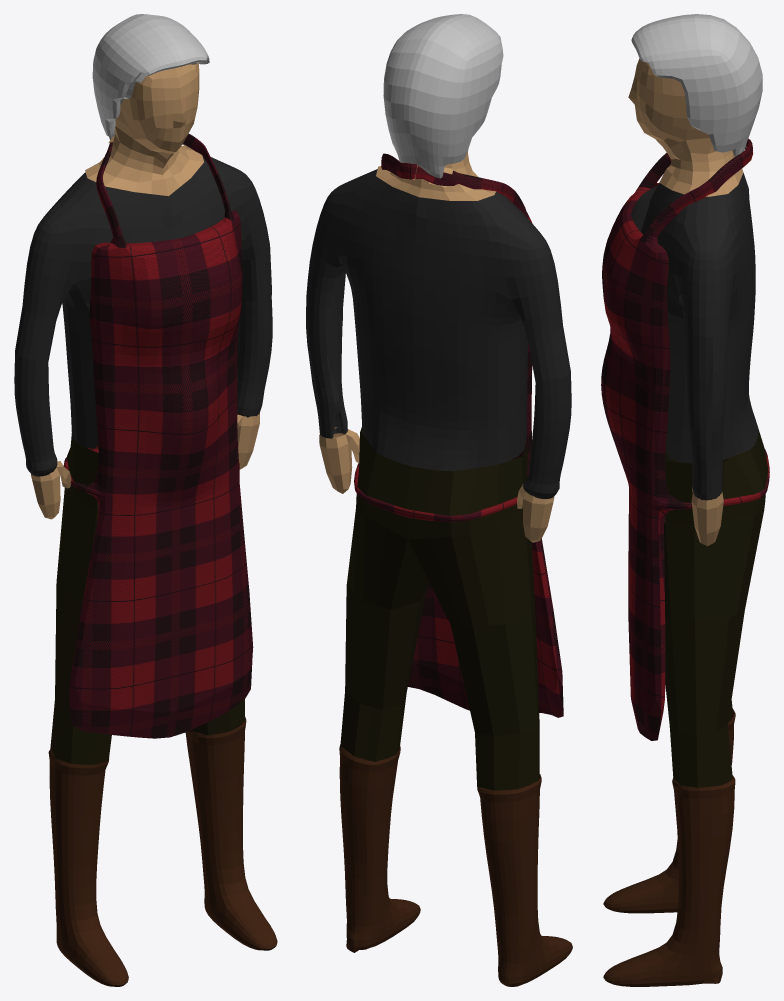
The model's file is Josefina.fbx.
3 views of the same model, side by side, from view 1: azimuth 30°, elevation 25°; view 2: azimuth 150°, elevation 25°; view 3: azimuth 270°, elevation 25° (orthographic). The views are drawn at different scales.
Visible parts, largest first — view 1: Josefina; view 2: Josefina; view 3: Josefina.
Part boxes in pixels (<box>): Josefina: <box>14,14,277,986</box>; Josefina: <box>306,14,572,986</box>; Josefina: <box>601,14,769,986</box>.
Size of the model in its own units: 41 by 141 by 23.33.
Materials: 6 (1 with a texture image).
